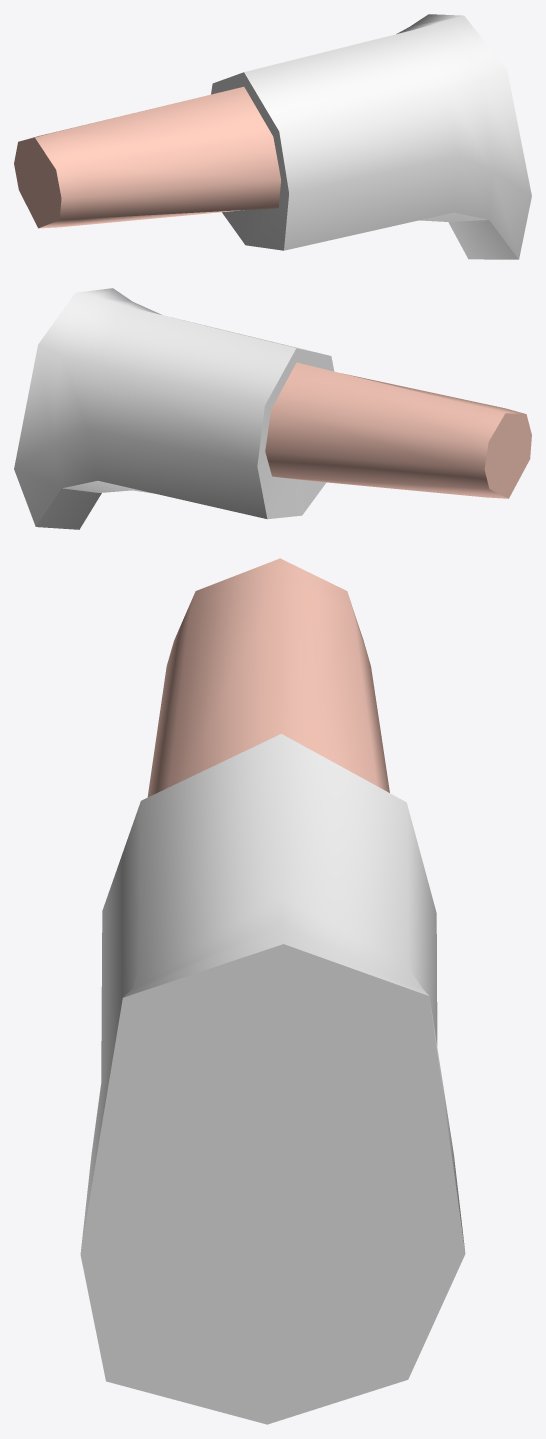
The model's file is UpperArm_R.FBX.
The picture shows the model from 3 angles, top to bottom: view 1: azimuth 30°, elevation 25°; view 2: azimuth 150°, elevation 25°; view 3: azimuth 270°, elevation 25°; orthographic projection. The views are drawn at different scales.
Visible parts, largest first — view 1: UpperArm_R; view 2: UpperArm_R; view 3: UpperArm_R.
Boxes of the visible parts, x1,y1,x2,y2 form: UpperArm_R: [14, 14, 531, 259]; UpperArm_R: [14, 288, 531, 529]; UpperArm_R: [80, 558, 465, 1424].
Size of the model in its own units: 18.52 by 6.92 by 9.53.
